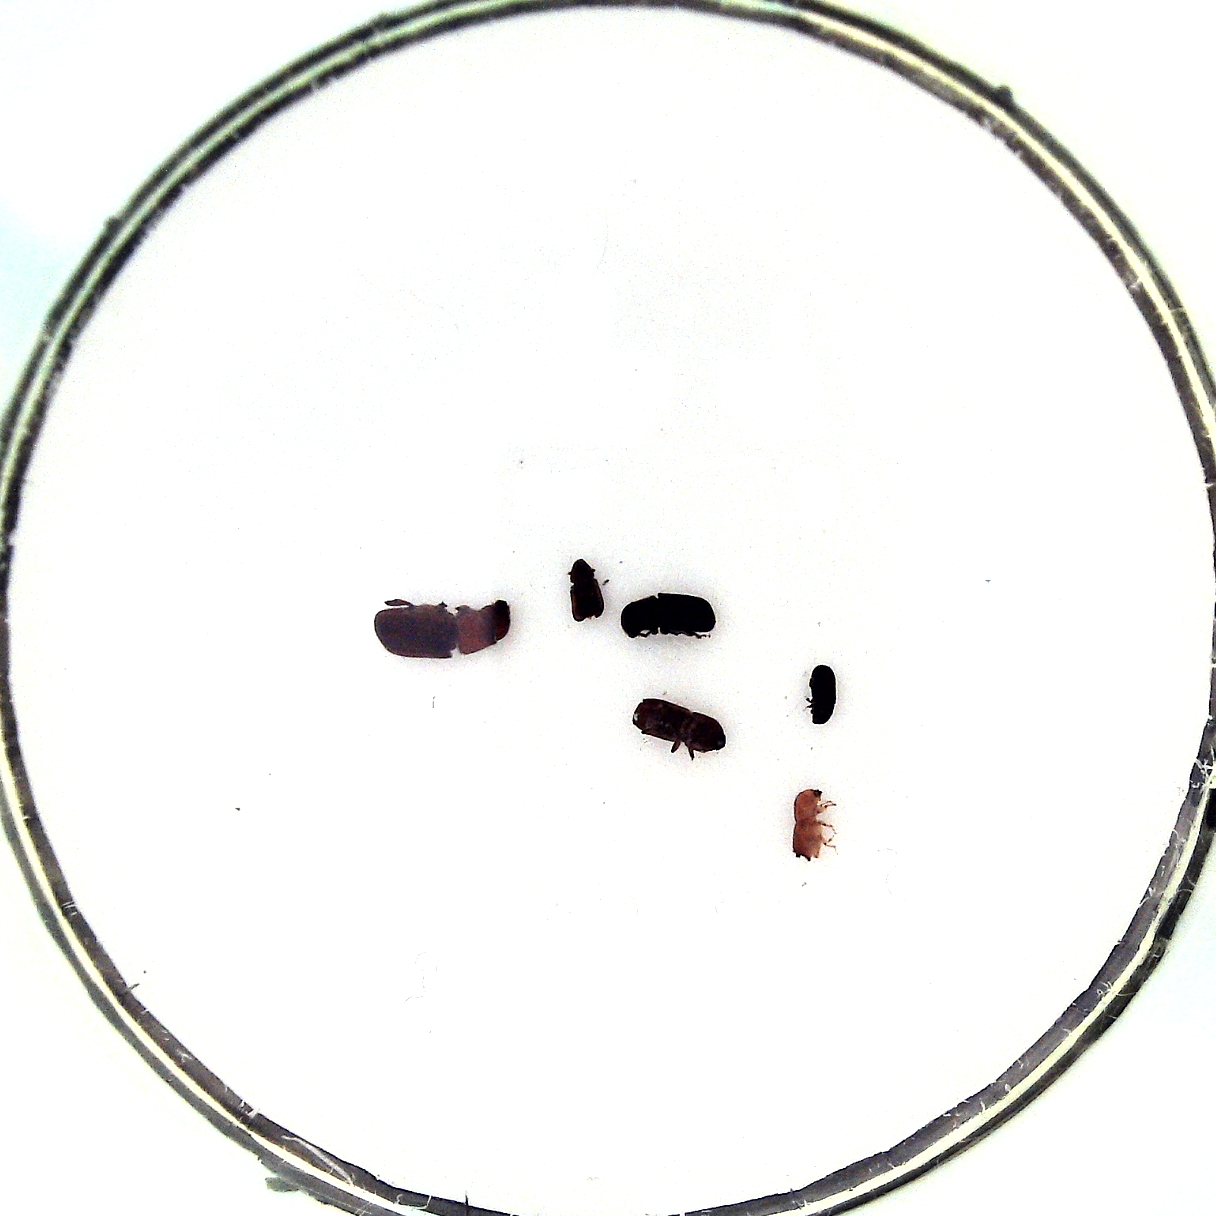Leconte: (375, 599, 511, 659)
acuminatus: (569, 559, 604, 622), (808, 664, 835, 724)
armandi: (619, 594, 714, 639)
coleoptera: (792, 790, 823, 861)
linnaeus: (634, 698, 727, 753)
